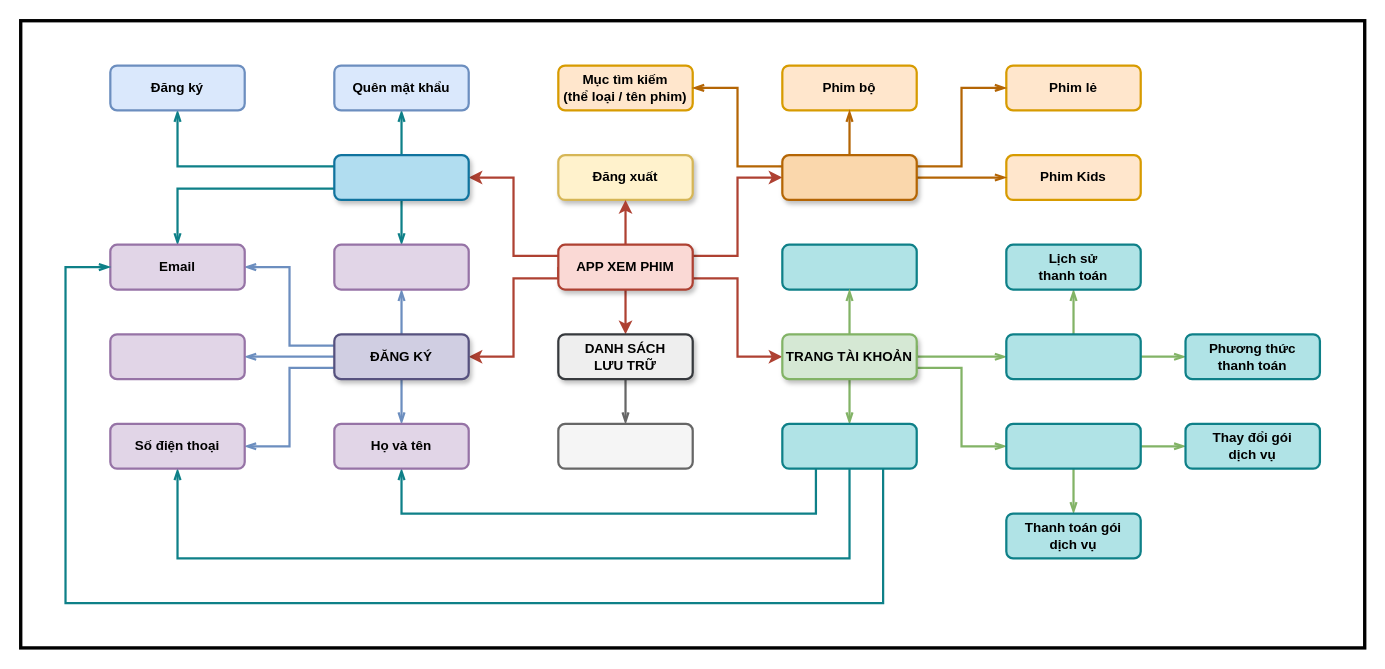
This 1385x669 diagram has some shape labels left out. Each missing label, with the centre of its shape:
"Mật khẩu" goes at (x=401, y=266).
"Phim yêu thích Phim đã xem" goes at (x=625, y=445).
"Thay đổi mật khẩu" goes at (x=849, y=266).
"Thông tin gói dịch vụ" goes at (x=1073, y=445).
"Thông tin thanh toán" goes at (x=1073, y=356).
"Thông tin tài khoản" goes at (x=849, y=445).
"TRANG CHỦ" goes at (x=850, y=178).
"Xác thực tài khoản" goes at (x=177, y=356).
"ĐĂNG NHẬP" goes at (x=402, y=178).
